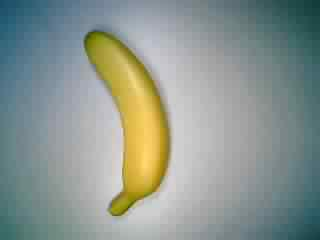banana: (79, 28, 174, 217)
